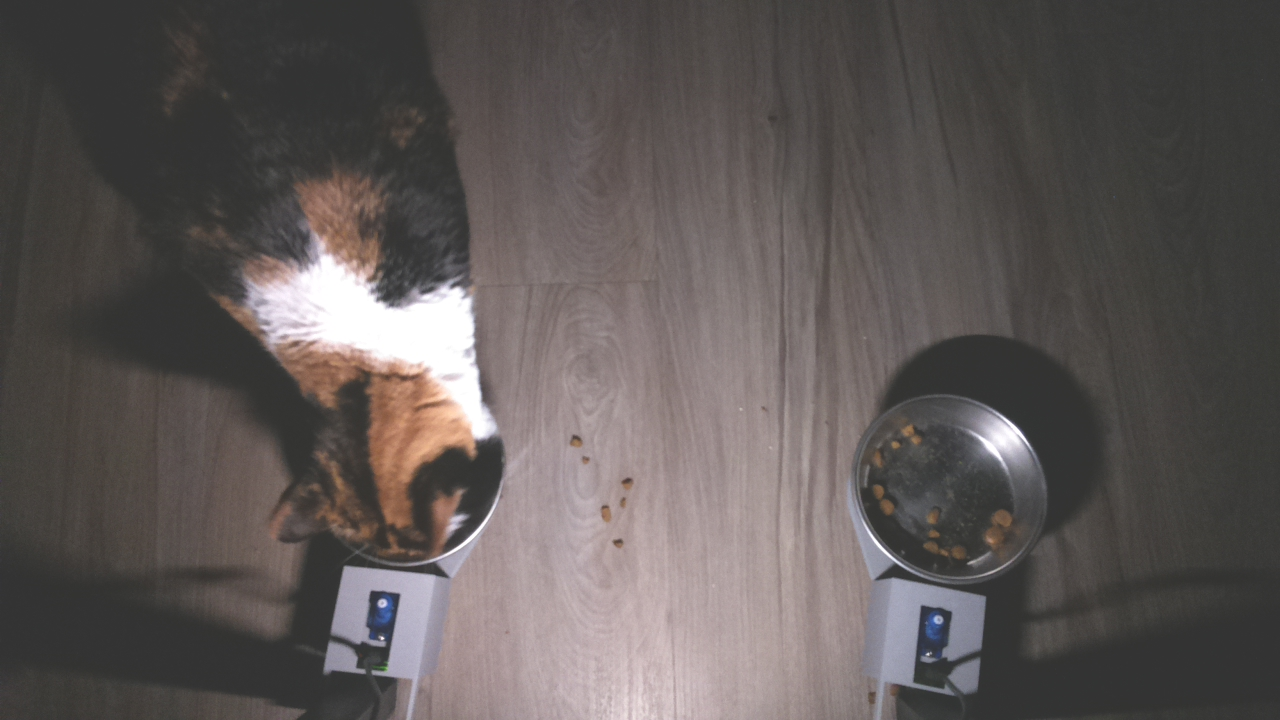bella_eating: (262, 273, 526, 578)
open_bowl: (847, 387, 1051, 591)
